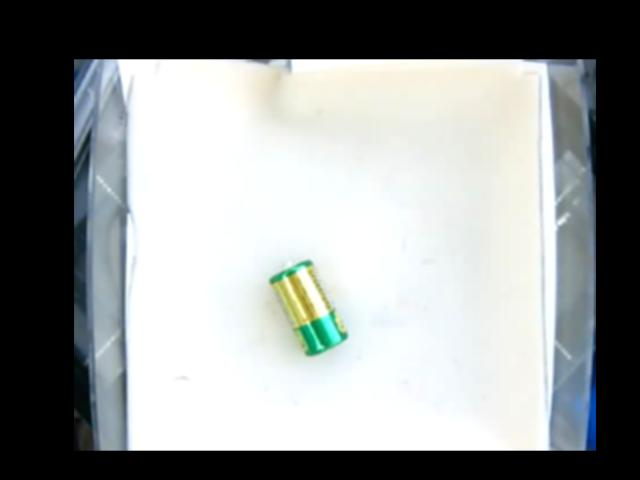Battery: (268, 258, 349, 356)
